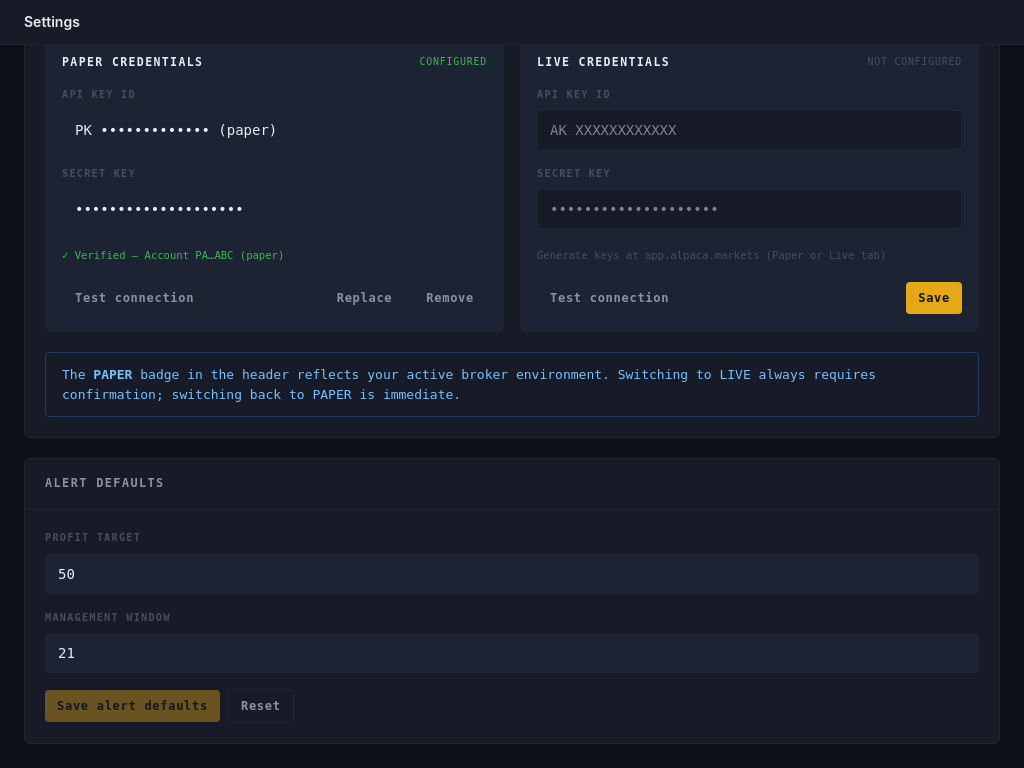
Scenario: saves edited alert defaults and shows the saved banner
The image size is (1024, 768).
(page scrolled)
Replace the text in the number field labelled "Profit Target" with "40" at (512, 574), box [45,554,979,594]
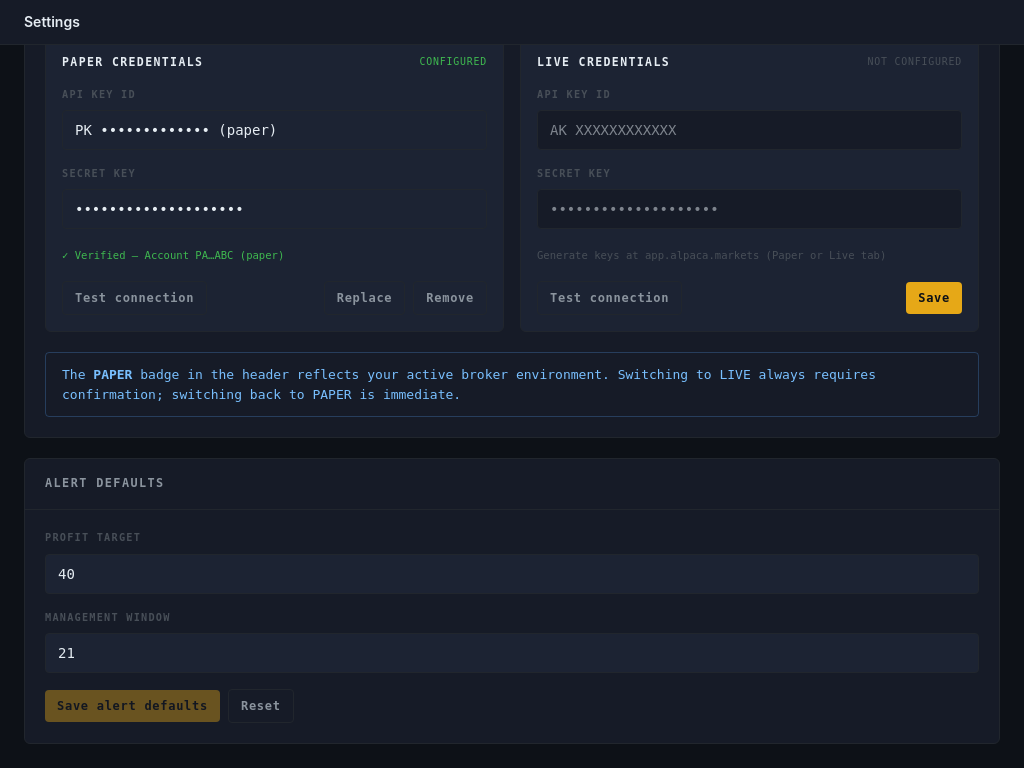
Replace the text in the number field labelled "Management Window" with "14" at (512, 653), box [45,633,979,673]
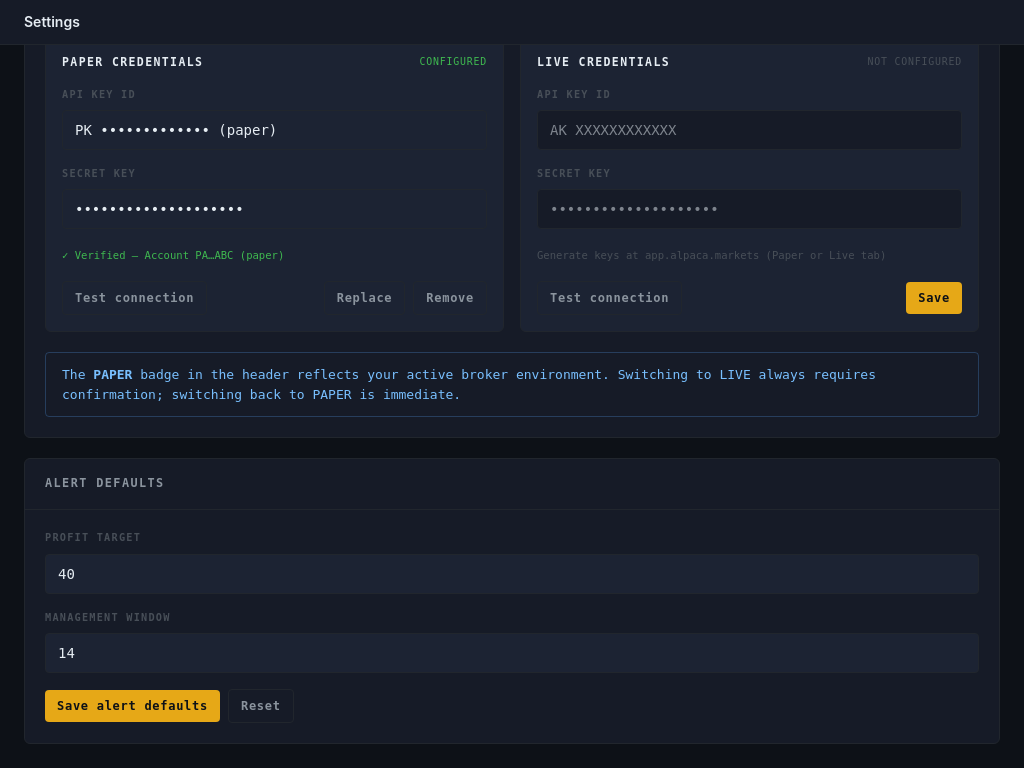
Result: the button "Save alert defaults" is enabled
Click the button "Save alert defaults" at (132, 706), box [45,690,220,722]
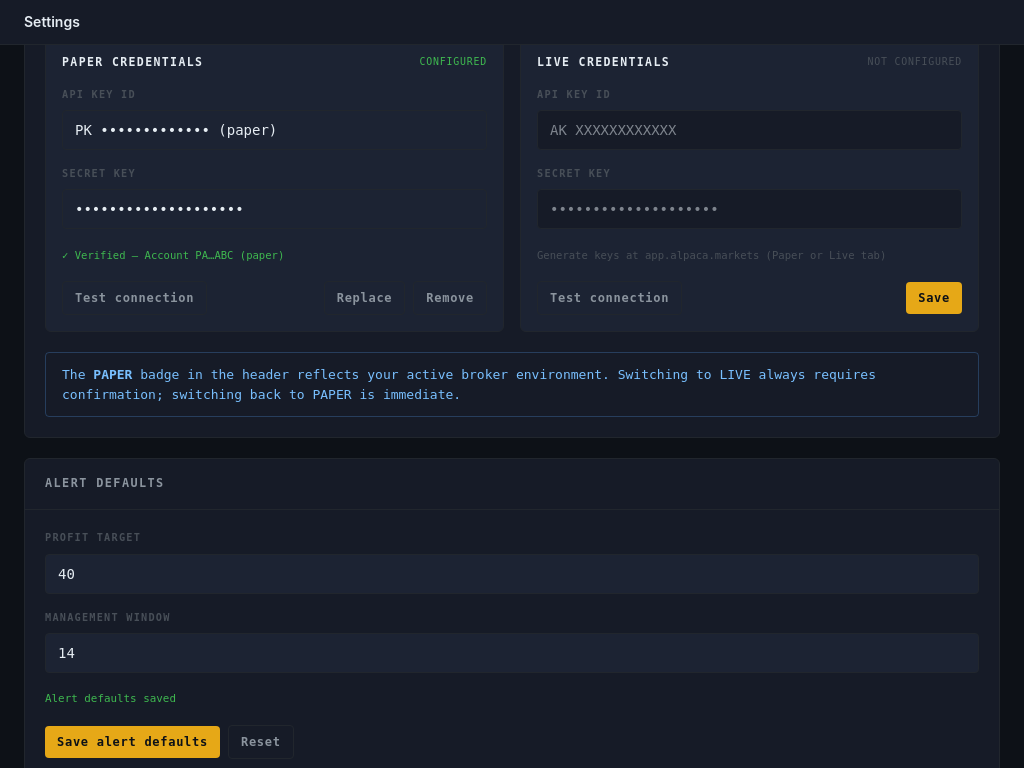
Result: the text "Alert defaults saved" is shown at [45,692,176,705]
